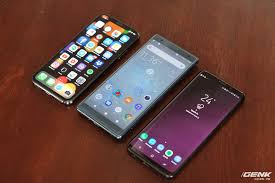sony: (32, 14, 138, 104)
